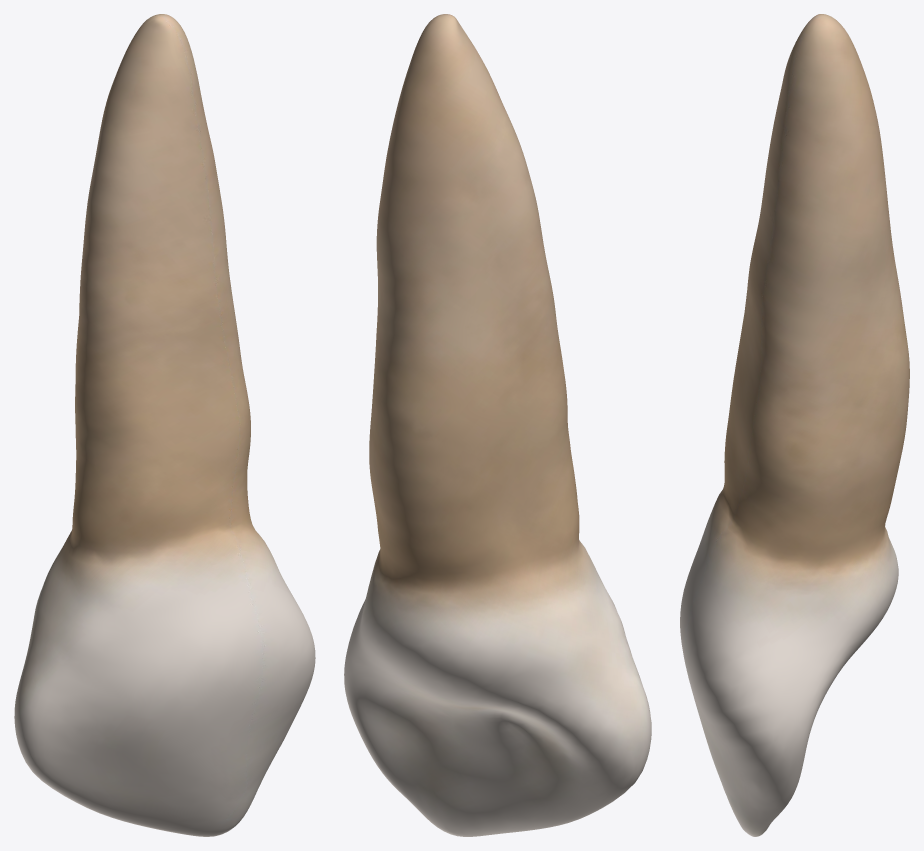
3 renders of one model, left to right at view 1: azimuth 30°, elevation 25°; view 2: azimuth 150°, elevation 25°; view 3: azimuth 270°, elevation 25°, orthographic. The views are drawn at different scales.
Visible parts, largest first — view 1: diente-63; view 2: diente-63; view 3: diente-63.
Boxes of the visible parts, x1,y1,x2,y2 form: diente-63: [14, 14, 315, 836]; diente-63: [344, 14, 651, 836]; diente-63: [680, 14, 909, 836].
Bounding box in the file's own units: 0.00703 × 0.019 × 0.00491.
1 material, 1 textured.
